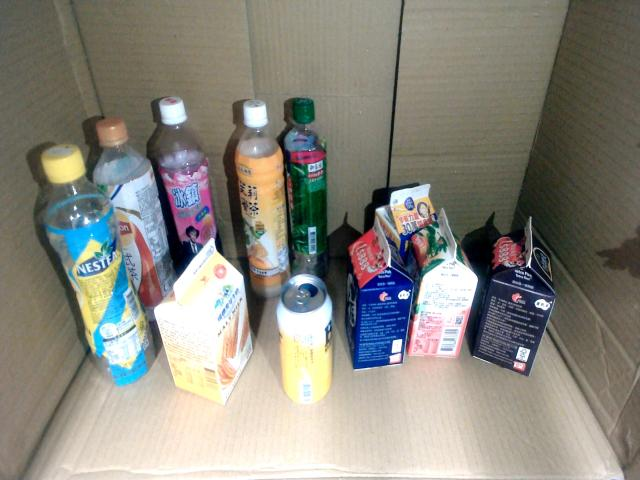Canned_drinks: (276, 272, 333, 406)
bottle: (40, 144, 155, 386), (92, 116, 178, 323), (153, 94, 225, 279), (234, 97, 292, 297), (282, 97, 331, 291)
